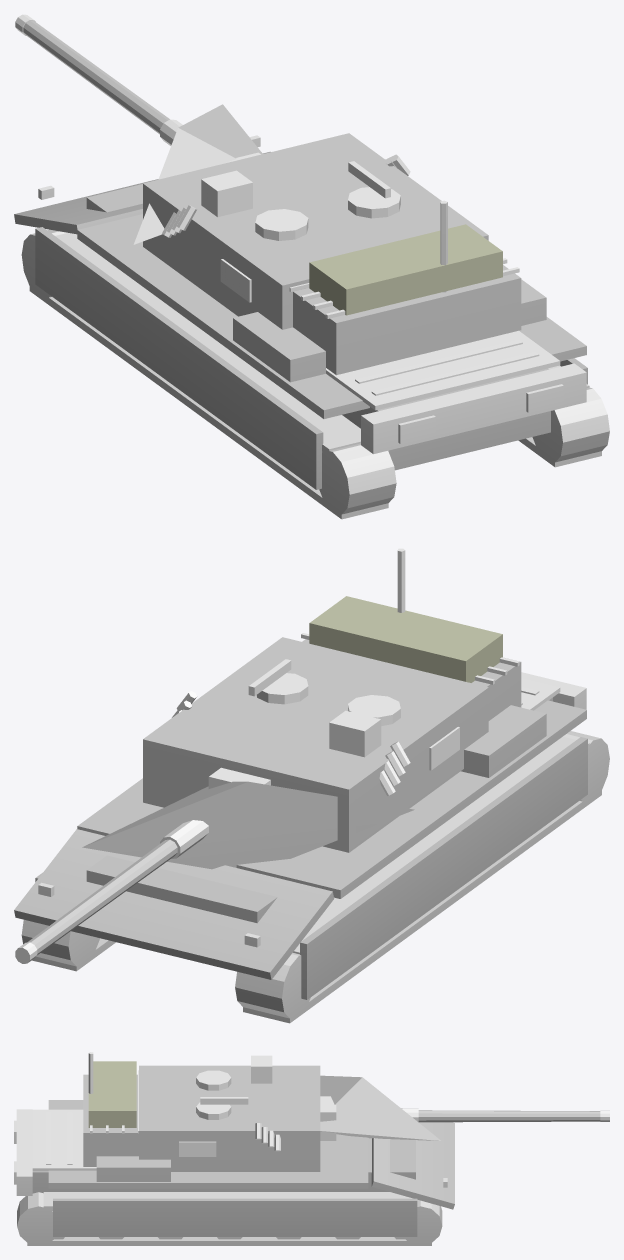
Rendered from tank_blue.glb.
3 views of the same model, one above another, from view 1: azimuth 30°, elevation 25°; view 2: azimuth 150°, elevation 25°; view 3: azimuth 270°, elevation 25° (orthographic). The views are drawn at different scales.
Visible parts, largest first — view 1: body, turret, barrel; view 2: body, turret, barrel; view 3: body, turret, barrel.
Part boxes in pixels (<box>): body: <box>14,135,609,519</box>; turret: <box>133,104,521,375</box>; barrel: <box>15,14,182,145</box>; body: <box>14,672,609,1023</box>; turret: <box>82,548,521,869</box>; barrel: <box>15,820,208,963</box>; body: <box>14,1100,454,1245</box>; turret: <box>83,1052,440,1171</box>; barrel: <box>402,1108,609,1122</box>.
Size of the model in its own units: 3.89 by 3.28 by 11.19.
